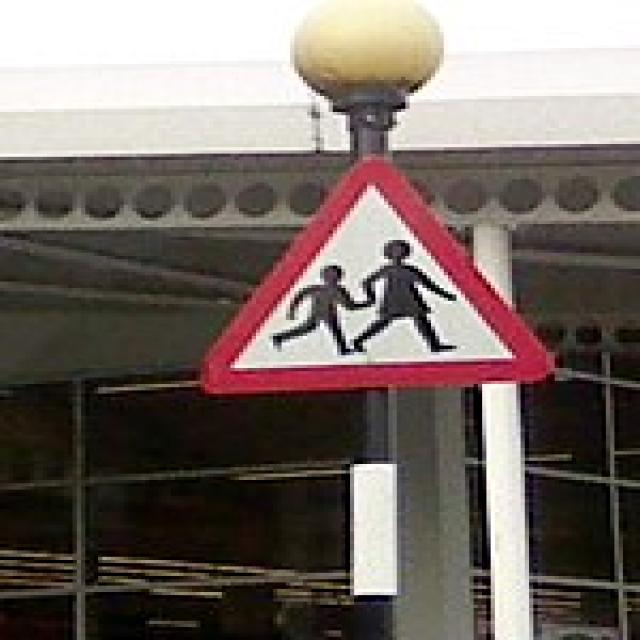Traffic sign: (194, 156, 561, 408)
